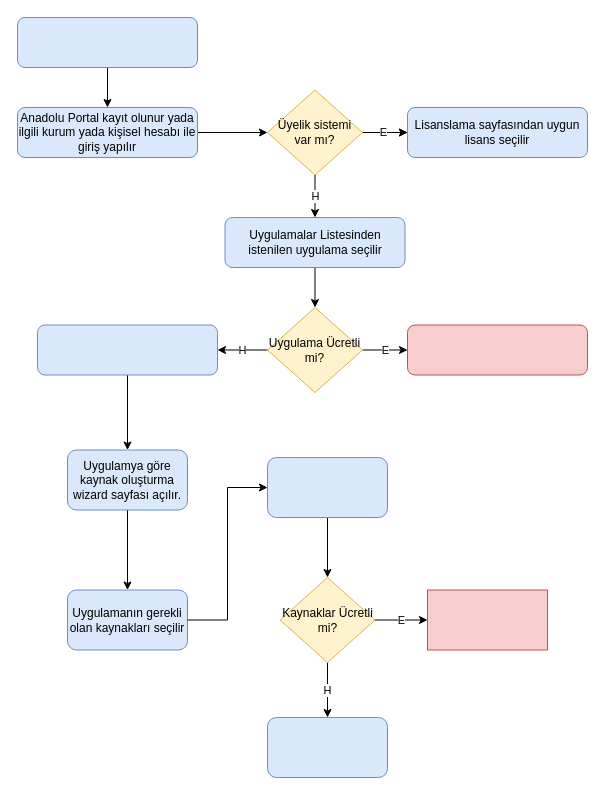
This 605x795 diagram has some shape labels left out. Each missing label, with the centre of its shape:
"Anadolu Portal sayfasına girilir" belongs at point (107, 42).
"Kaynakların nerede oluşturulacağı seçilir" belongs at point (327, 487).
"Uygulama kaynakları olşturulma işlemi başlar" belongs at point (327, 747).
"Yeni uygulama oluştur seçilir" belongs at point (127, 349).
